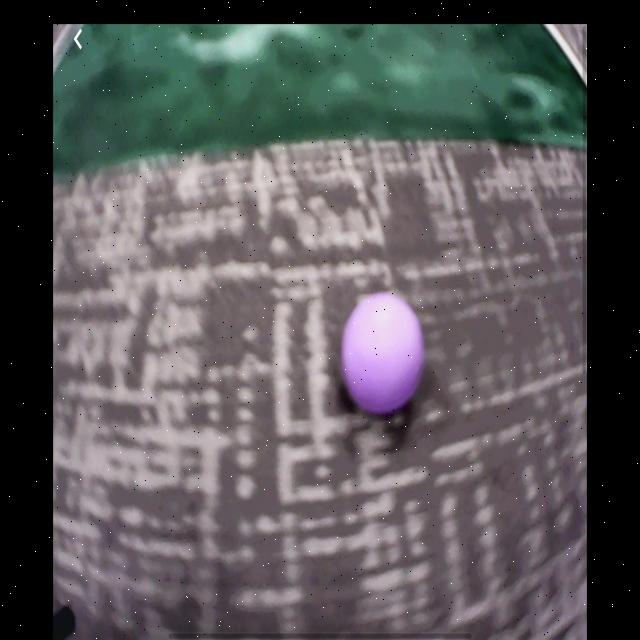ball: (343, 287, 426, 417)
